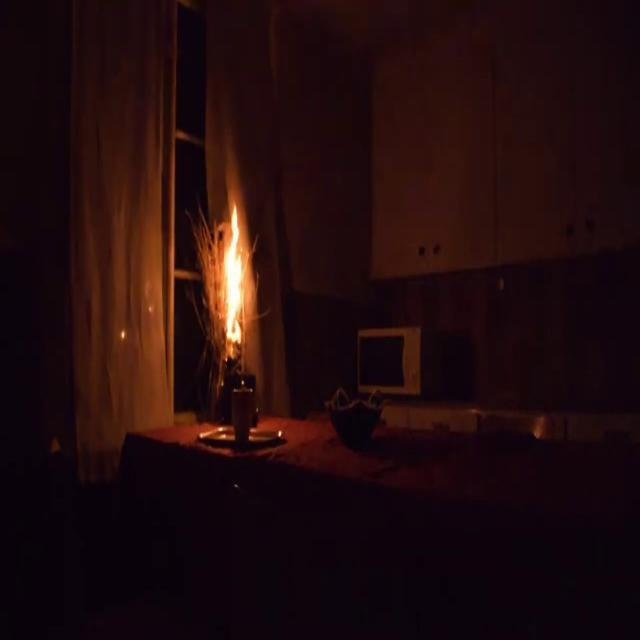Fire: (217, 197, 260, 361)
